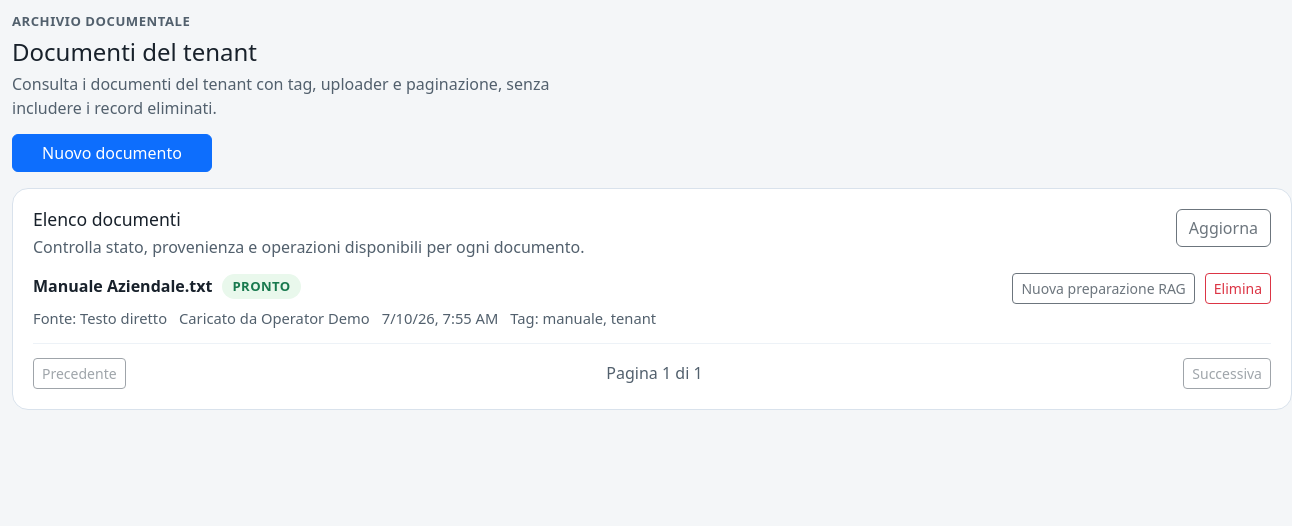
Scenario: DocumentListComponent › reveals a soft delete confirmation before deleting a document
Click the button with class "btn-outline-danger" at (1238, 288), box [1205,273,1271,304]
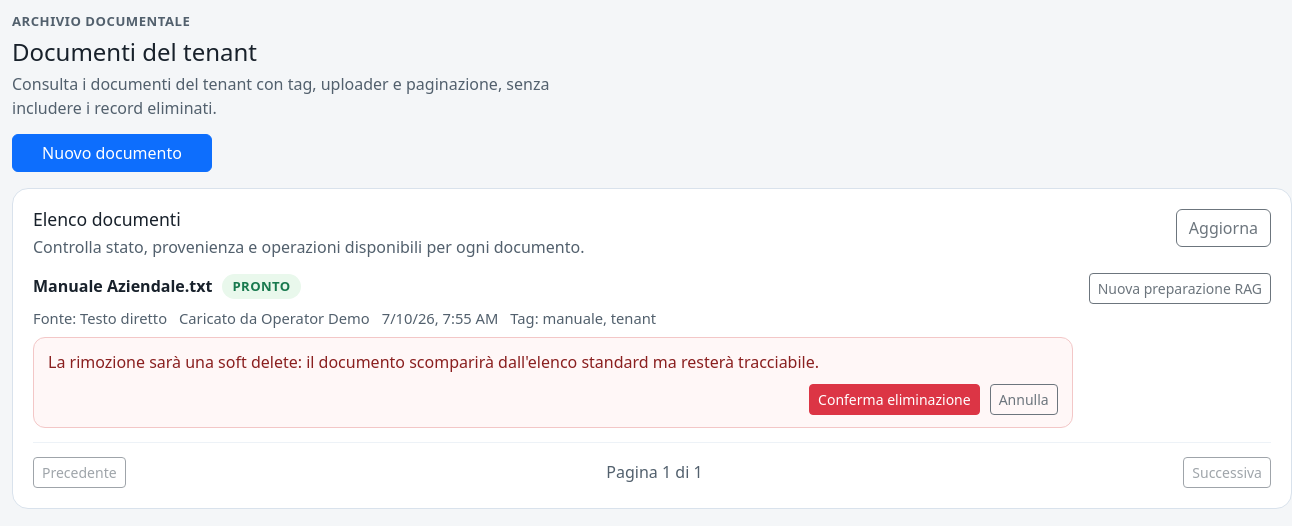
Expected: the text "La rimozione sarà una soft delete" is shown, [48,351,819,373]
Expected: the text "Conferma eliminazione" is shown, [809,384,980,415]
